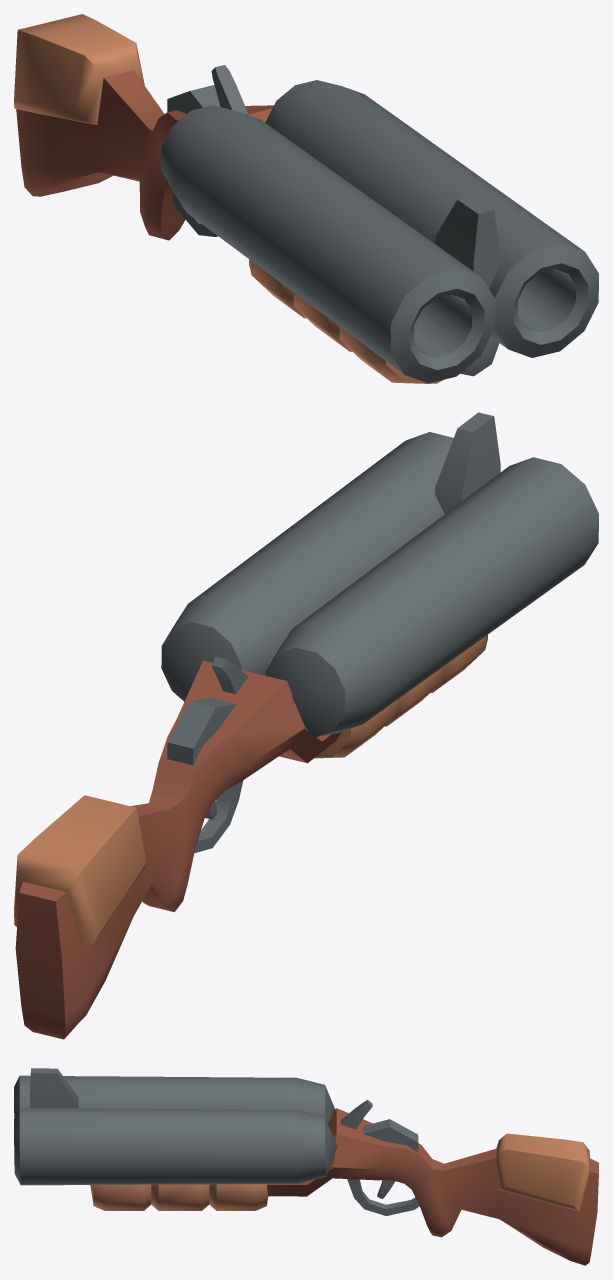
File: shotgun.gltf.glb
3 renders of one model, top to bottom at view 1: azimuth 30°, elevation 25°; view 2: azimuth 150°, elevation 25°; view 3: azimuth 270°, elevation 25°, orthographic. The views are drawn at different scales.
Visible parts, largest first — view 1: shotgun; view 2: shotgun; view 3: shotgun.
Boxes of the visible parts, x1,y1,x2,y2 form: shotgun: (14,14,598,383); shotgun: (14,412,598,1039); shotgun: (14,1068,598,1265).
Bounding box in the file's own units: 0.3767 × 0.5206 × 1.45.
